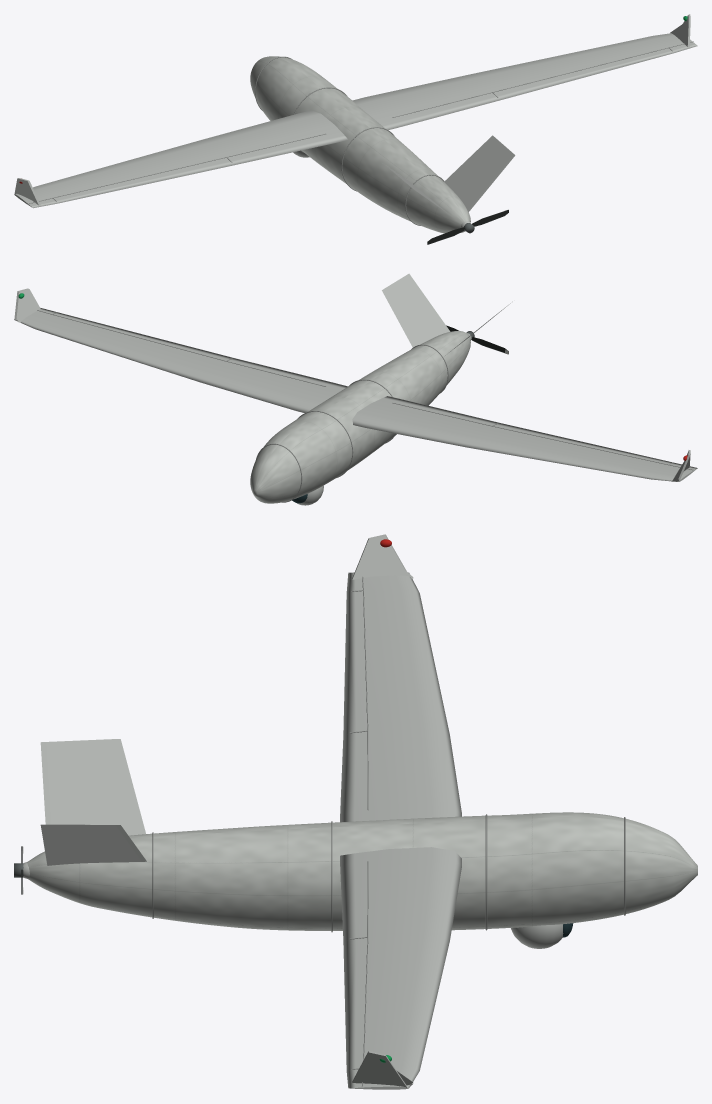
The model's file is hermes900-centurion.glb.
3 views of the same model, one above another, from view 1: azimuth 30°, elevation 25°; view 2: azimuth 150°, elevation 25°; view 3: azimuth 270°, elevation 25° (orthographic). The views are drawn at different scales.
Visible parts, largest first — view 1: Wings, Hermes 900 fuselage, Tail, Panel seams, Propeller blades; view 2: Wings, Hermes 900 fuselage, Tail, Panel seams; view 3: Hermes 900 fuselage, Wings, Tail, Panel seams, Sensor turret.
Boxes of the visible parts, box(x1,y1,x2,y2) form: Wings: box(14, 14, 697, 208); Hermes 900 fuselage: box(250, 56, 470, 233); Tail: box(383, 135, 515, 215); Panel seams: box(29, 41, 693, 225); Propeller blades: box(427, 209, 508, 244); Wings: box(14, 288, 697, 481); Hermes 900 fuselage: box(250, 331, 470, 503); Tail: box(382, 273, 512, 355); Panel seams: box(37, 310, 693, 502); Hermes 900 fuselage: box(27, 812, 697, 930); Wings: box(340, 534, 461, 1089); Tail: box(40, 739, 146, 865); Panel seams: box(152, 576, 625, 1086); Sensor turret: box(511, 923, 573, 948).
Size of the model in its own units: 15.19 by 2.23 by 8.41.
Materials: 9 (1 with a texture image).
